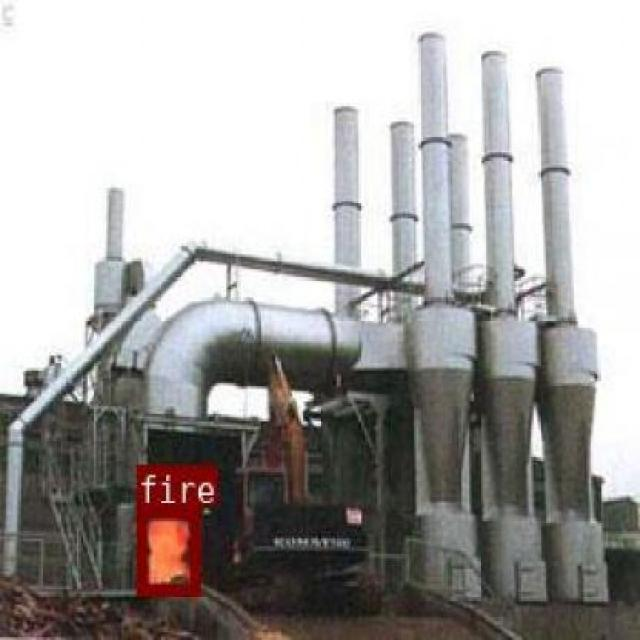Fire: (134, 503, 198, 592)
